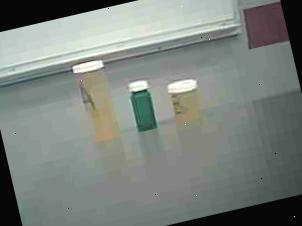Bottle A: (67, 53, 129, 148)
Bottle B: (164, 74, 211, 132)
Bottle C: (124, 77, 162, 137)
